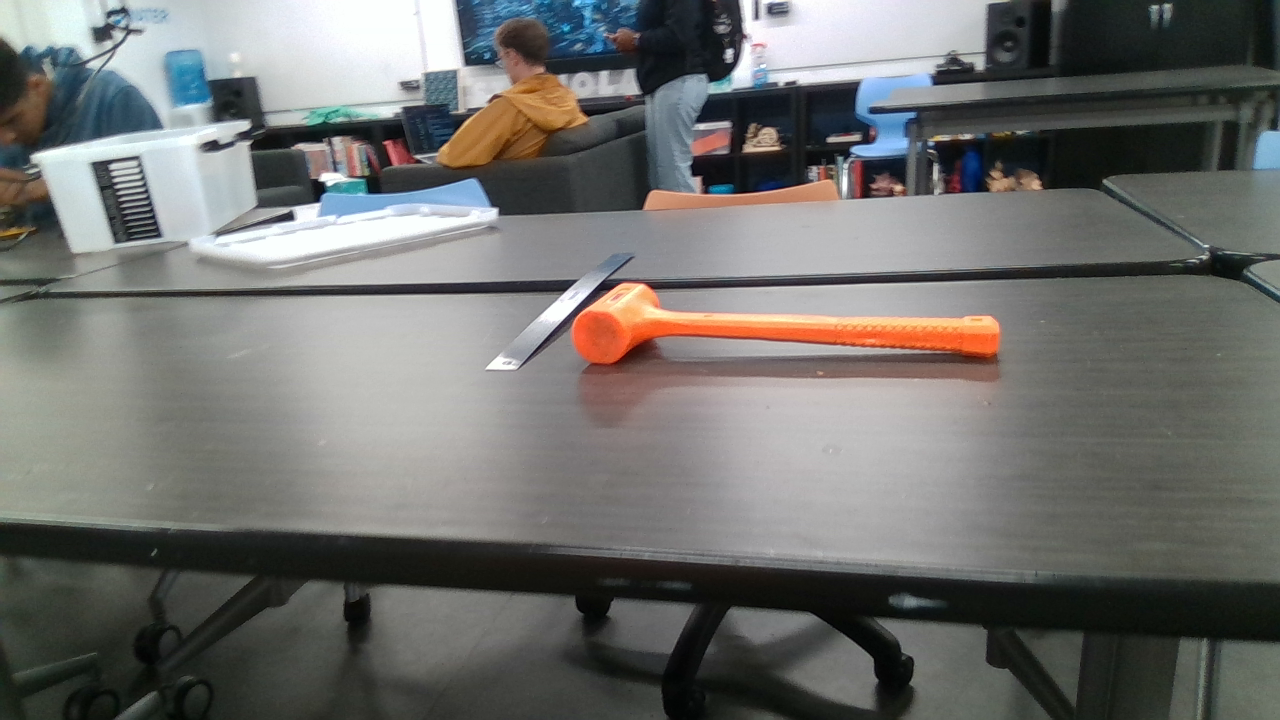Orange Hammer: (575, 282, 999, 366)
